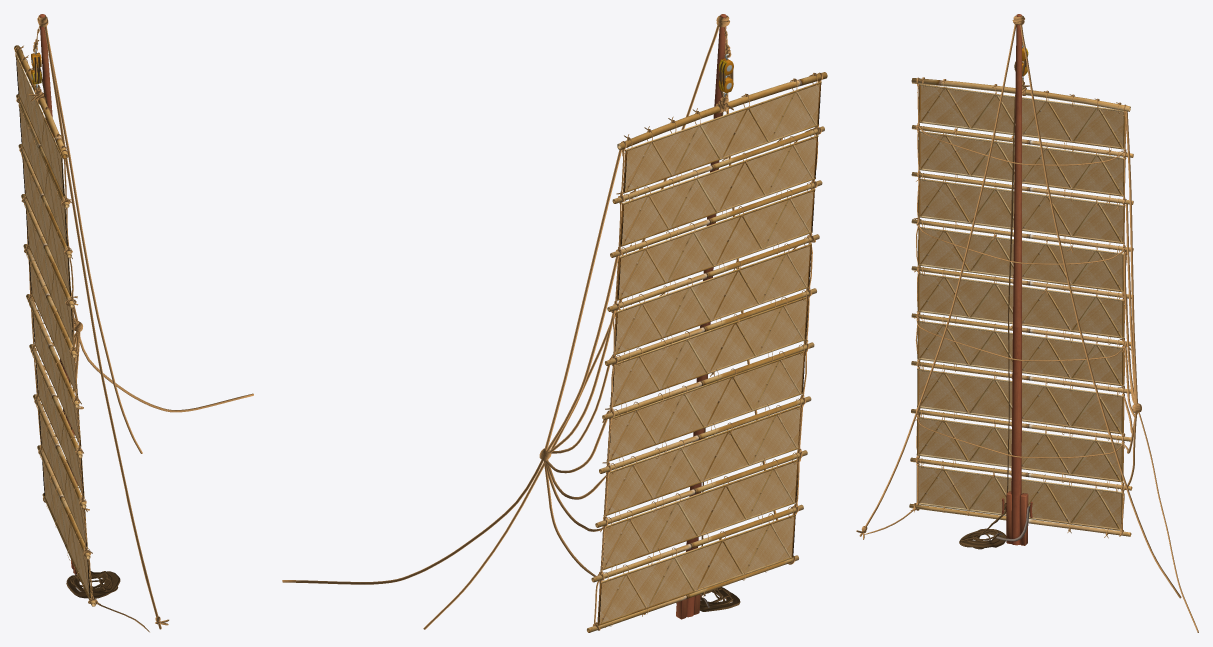
File: SM_Mado_Sail.fbx
3 views of the same model, side by side, from view 1: azimuth 30°, elevation 25°; view 2: azimuth 150°, elevation 25°; view 3: azimuth 270°, elevation 25° (orthographic). The views are drawn at different scales.
Visible parts, largest first — view 1: SM_Mado_Sail; view 2: SM_Mado_Sail; view 3: SM_Mado_Sail.
Boxes of the visible parts, x1=… form: SM_Mado_Sail: x1=14, y1=14, x2=253, y2=632; SM_Mado_Sail: x1=282, y1=14, x2=827, y2=632; SM_Mado_Sail: x1=856, y1=14, x2=1198, y2=632.
Size of the model in its own units: 727 by 682 by 1132.
Materials: 2 (2 with a texture image).
